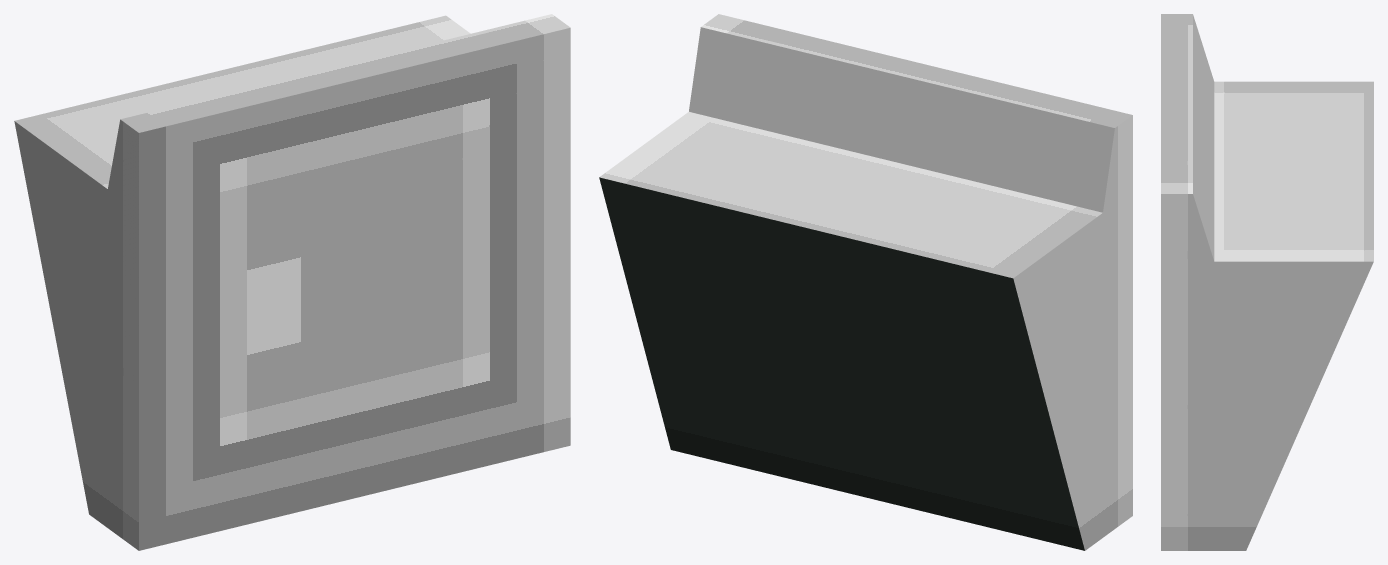
The model's file is desk_item.obj.
The picture shows the model from 3 angles, left to right: view 1: azimuth 30°, elevation 25°; view 2: azimuth 150°, elevation 25°; view 3: azimuth 270°, elevation 25°; orthographic projection. The views are drawn at different scales.
Size of the model in its own units: 1 by 0.925 by 0.5.
